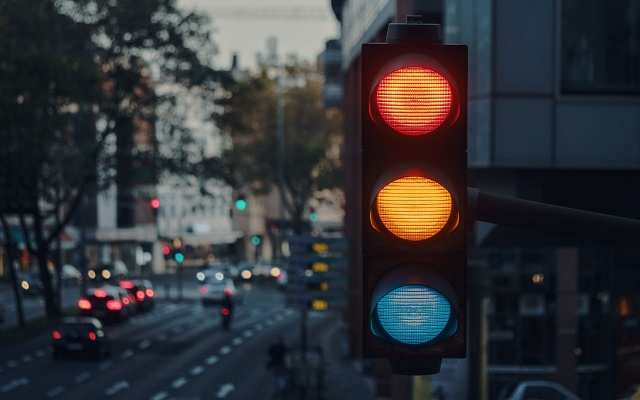traffic light: (358, 20, 469, 374)
